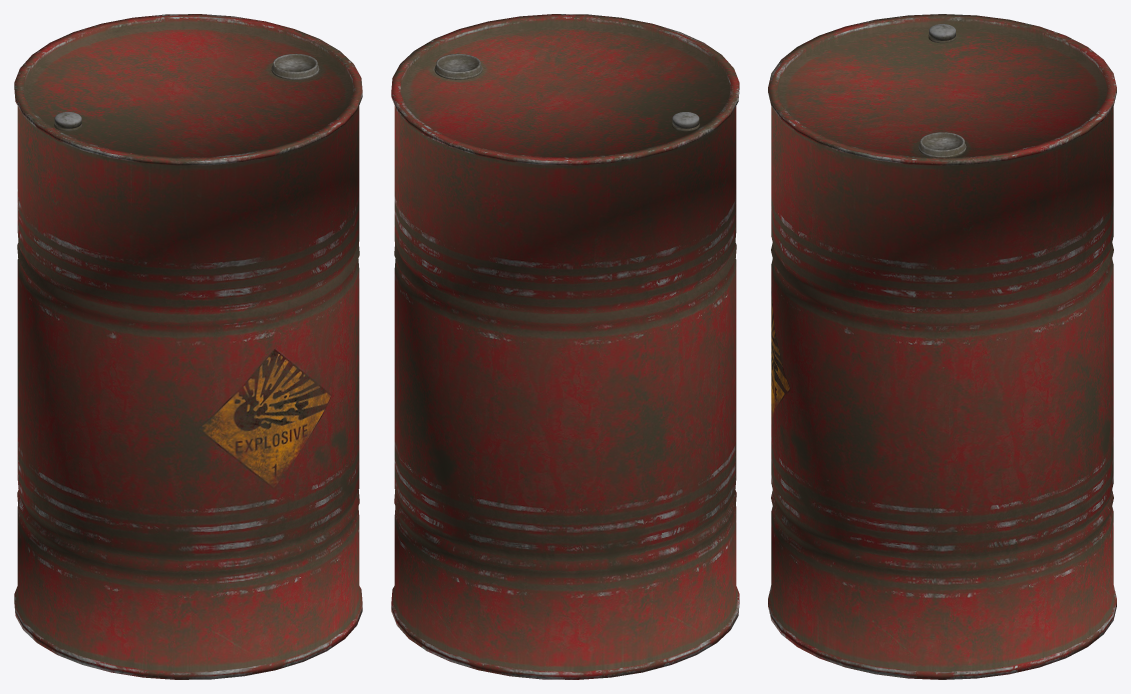
Rendered from explosive_barrel.glb.
3 views of the same model, side by side, from view 1: azimuth 30°, elevation 25°; view 2: azimuth 150°, elevation 25°; view 3: azimuth 270°, elevation 25° (orthographic).
Parts seen in each view (by area): view 1: Standard_Liquid_Drum_Low; view 2: Standard_Liquid_Drum_Low; view 3: Standard_Liquid_Drum_Low.
Boxes of the visible parts, x1,y1,x2,y2 form: Standard_Liquid_Drum_Low: (14, 14, 362, 679); Standard_Liquid_Drum_Low: (391, 14, 739, 679); Standard_Liquid_Drum_Low: (768, 14, 1116, 679).
Bounding box in the file's own units: 1.22 × 2.01 × 1.22.
1 material, 1 textured.
